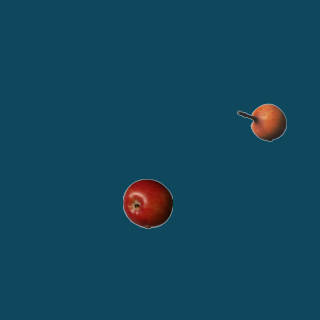Apple Braeburn: (122, 178, 172, 228)
Granadilla: (236, 97, 286, 147)
